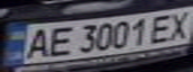0: (93, 20, 115, 52), (112, 18, 133, 50)
1: (127, 15, 151, 46)
3: (75, 21, 100, 54)
A: (18, 26, 54, 61)
E: (42, 24, 75, 58), (145, 11, 178, 44)
X: (163, 8, 193, 41)
